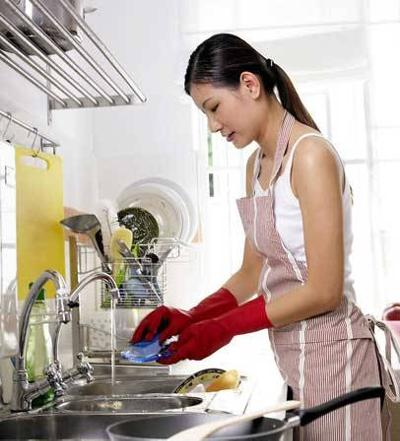person: (130, 33, 391, 441)
